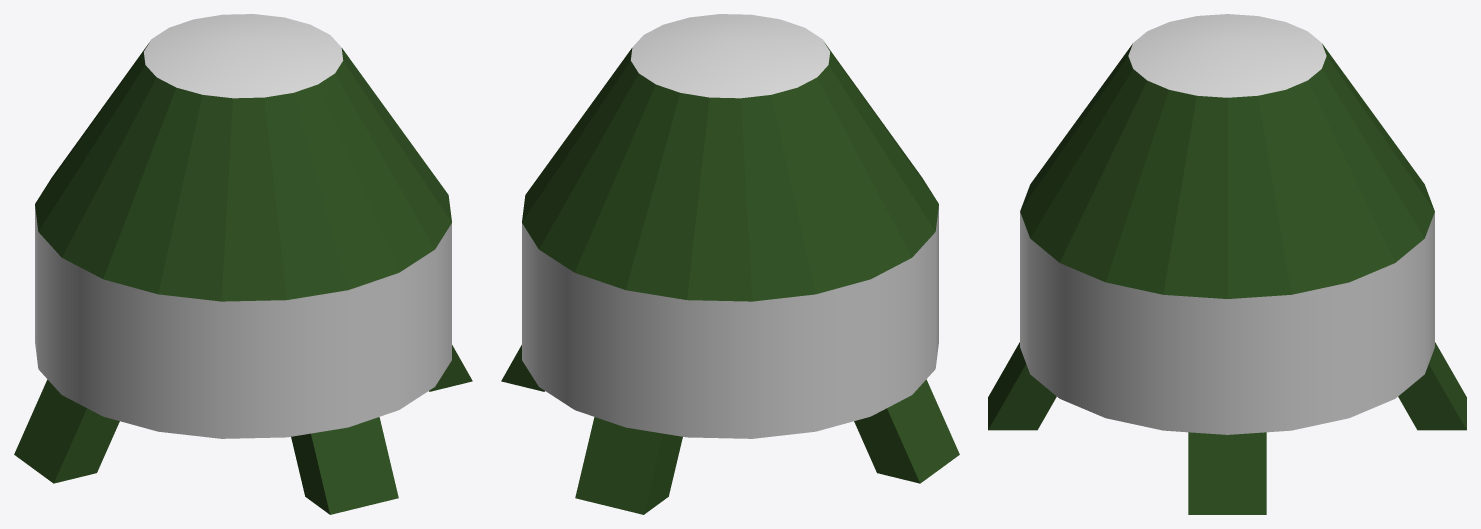
File: Pod.fbx
3 renders of one model, left to right at view 1: azimuth 30°, elevation 25°; view 2: azimuth 150°, elevation 25°; view 3: azimuth 270°, elevation 25°, orthographic.
Visible parts, largest first — view 1: pCylinder1, pCube2, pCube4, pCube3; view 2: pCylinder1, pCube1, pCube4, pCube3; view 3: pCylinder1, pCube3, pCube1, pCube2.
Part boxes in pixels (x1,y1,x2,y2): pCylinder1: (35, 14, 451, 438); pCube2: (291, 417, 398, 514); pCube4: (14, 379, 119, 483); pCube3: (429, 345, 472, 391); pCylinder1: (522, 14, 938, 438); pCube1: (575, 417, 682, 514); pCube4: (854, 379, 959, 483); pCube3: (501, 345, 544, 391); pCylinder1: (1020, 14, 1434, 434); pCube3: (1188, 432, 1266, 514); pCube1: (1398, 342, 1466, 430); pCube2: (988, 342, 1056, 430).
Size of the model in its own units: 2.31 by 1.99 by 2.31.
